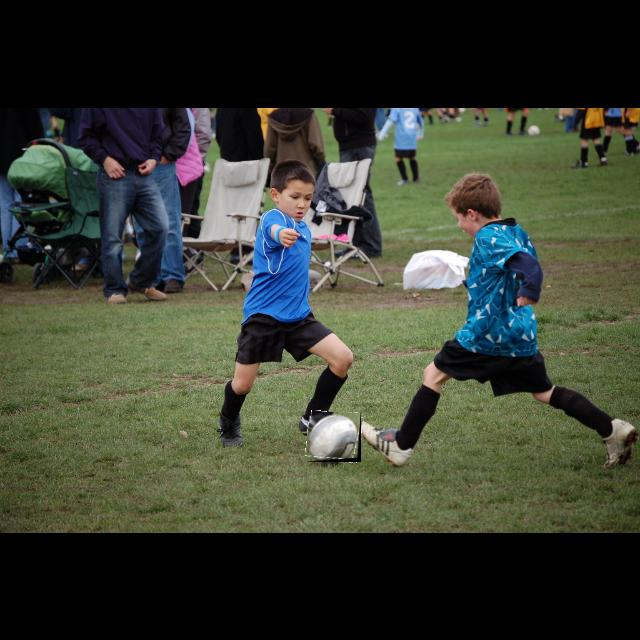Football: (307, 412, 361, 462)
